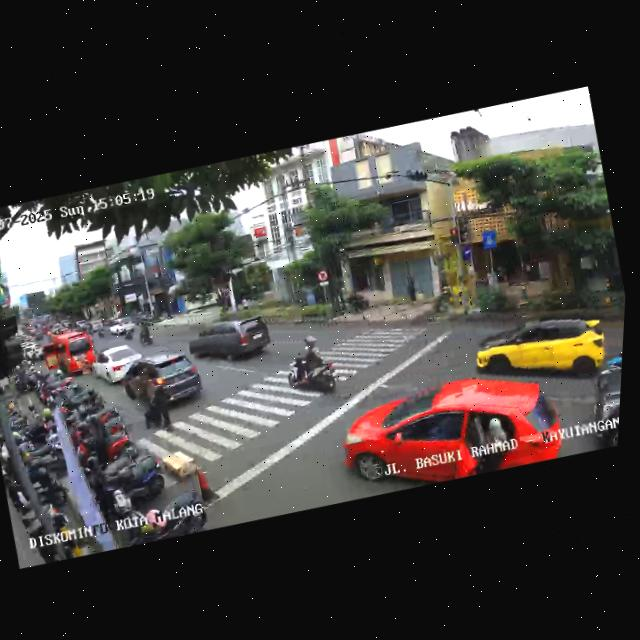car: (331, 355, 570, 505), (463, 290, 612, 398), (117, 347, 209, 427), (182, 308, 277, 376), (575, 359, 622, 450), (36, 329, 99, 384), (89, 340, 147, 389), (104, 315, 137, 341)
motorcycle: (279, 333, 345, 403), (137, 320, 155, 346)
person: (143, 381, 177, 434)
